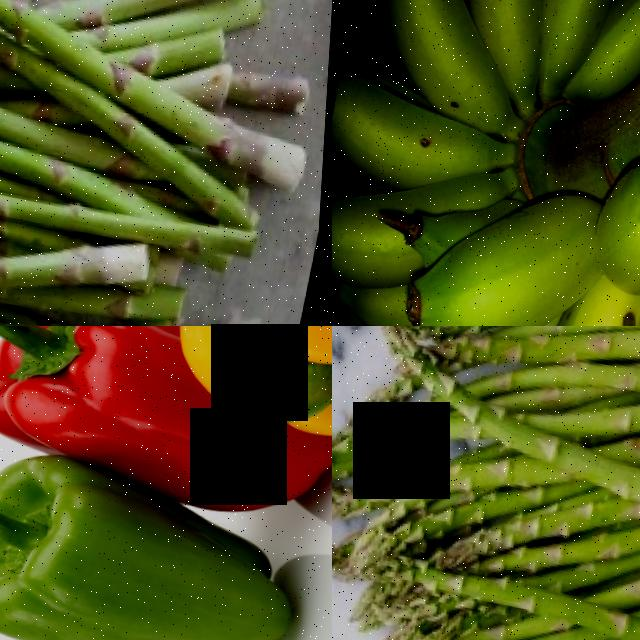asparagus: (367, 332, 640, 499), (0, 54, 228, 230), (0, 0, 286, 134), (386, 537, 640, 640), (0, 205, 112, 326), (332, 326, 590, 352), (332, 423, 396, 521)
banana: (332, 0, 640, 326)
bell pepper: (0, 427, 332, 640), (0, 326, 196, 475), (122, 326, 332, 459)
